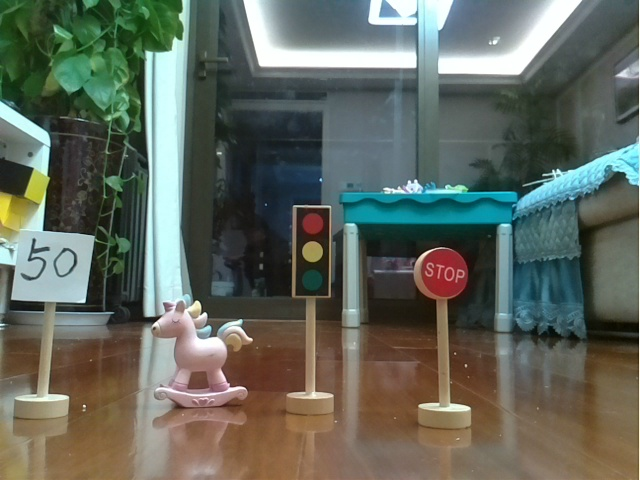Horse: (141, 295, 255, 410)
Red Traffic Light: (283, 198, 343, 419)
Speed Limit 50: (9, 225, 96, 426)
Stop Sign: (405, 237, 479, 431)
